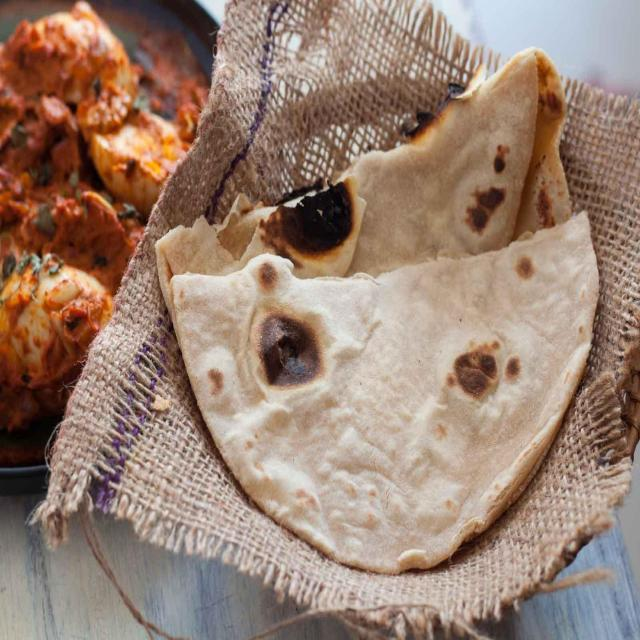roti: (171, 215, 595, 568), (153, 50, 574, 309)
